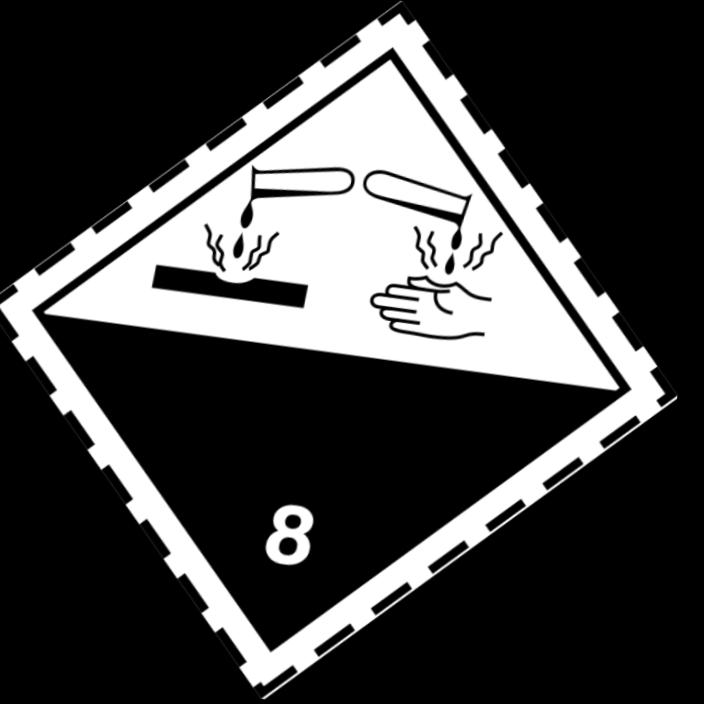elevator buttons: (0, 0, 676, 698)
